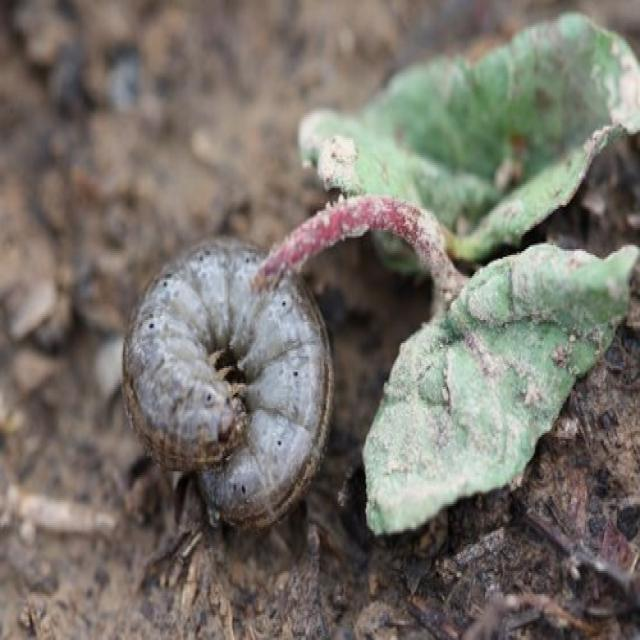Cutworm: (131, 219, 335, 547)
